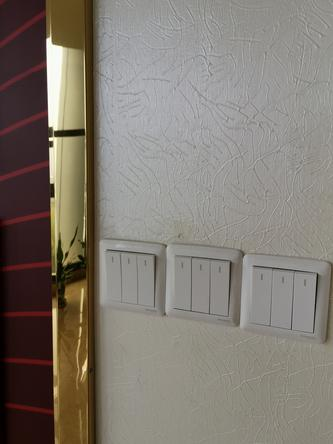switch: (287, 269, 320, 334), (270, 265, 297, 331), (249, 263, 275, 327), (134, 249, 158, 310), (209, 257, 233, 317), (171, 252, 194, 313), (189, 255, 212, 315), (103, 245, 125, 302), (120, 248, 141, 304)
